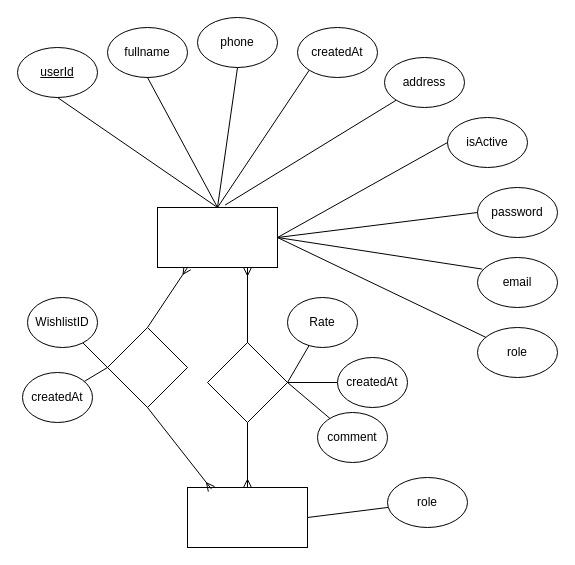
Some shapes in this 575 by 565 pixel diagram are drawn without their labels. Each missing label, with the centre of its shape:
product: the point at 247,517
Review: the point at 247,382
users: the point at 217,237
wishList: the point at 147,367
